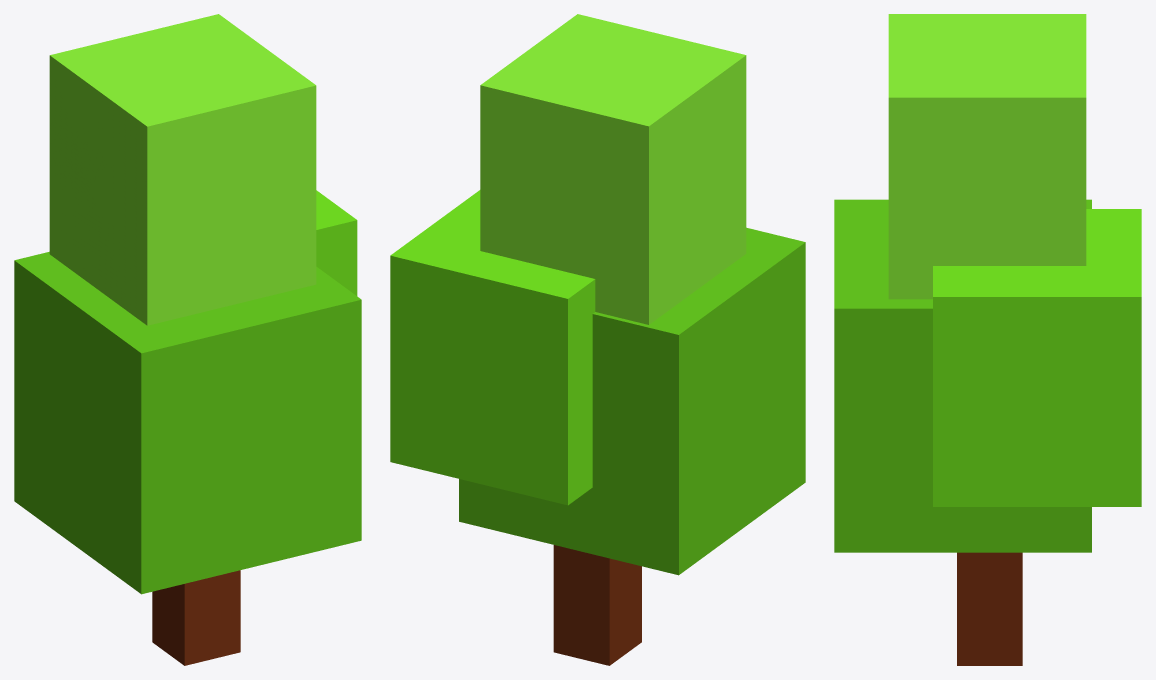
File: Tree_Tall_Green_01_Light.fbx
3 renders of one model, left to right at view 1: azimuth 30°, elevation 25°; view 2: azimuth 150°, elevation 25°; view 3: azimuth 270°, elevation 25°, orthographic.
Visible parts, largest first — view 1: Cube; view 2: Cube; view 3: Cube.
Boxes of the visible parts, box(x1,y1,x2,y2) form: Cube: box(14, 14, 361, 665); Cube: box(390, 14, 805, 665); Cube: box(834, 14, 1141, 665).
Bounding box in the file's own units: 0.9411 × 1.97 × 0.9343.
